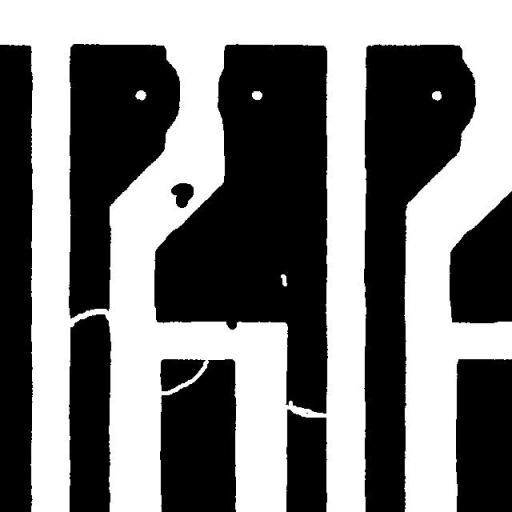copper: (163, 175, 201, 215)
open: (151, 352, 216, 402), (274, 393, 338, 425), (61, 301, 119, 334)
pin-hole: (273, 266, 294, 294)
spur: (218, 310, 244, 336)
